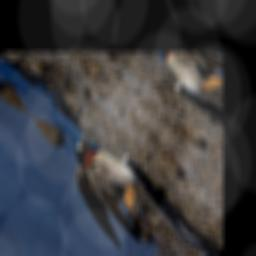Swallow: (48, 115, 180, 256)
